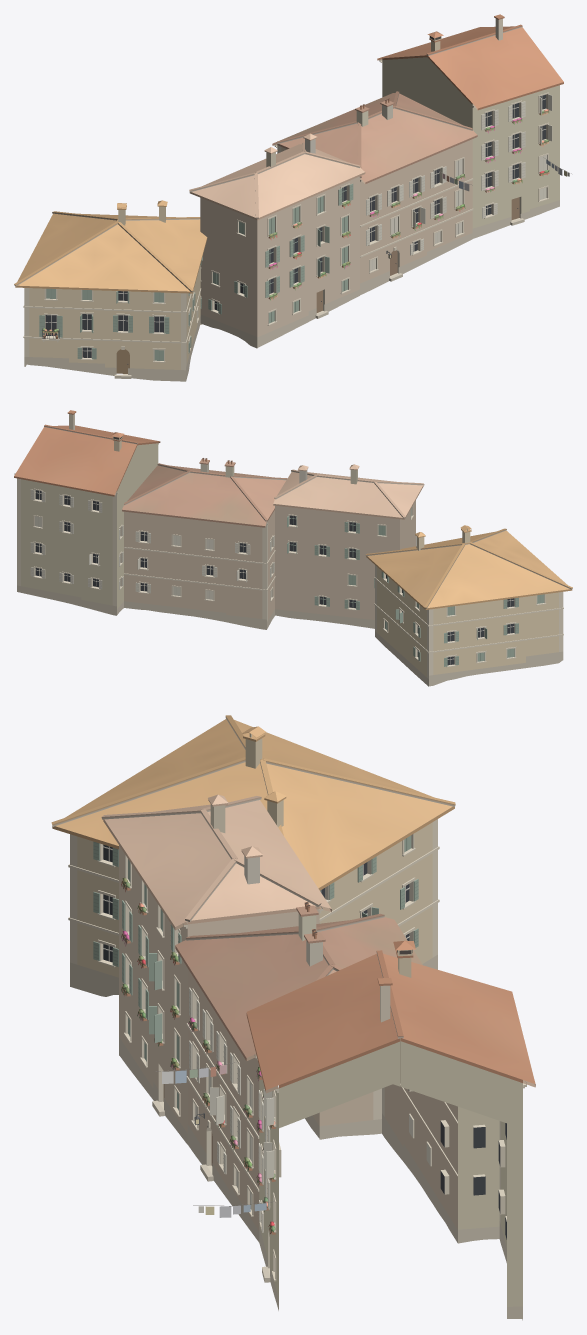
File: SM_BM_BT_blk_05.glb
3 views of the same model, one above another, from view 1: azimuth 30°, elevation 25°; view 2: azimuth 150°, elevation 25°; view 3: azimuth 270°, elevation 25° (orthographic). The views are drawn at different scales.
Visible parts, largest first — view 1: SM_BM_BT_blk_05; view 2: SM_BM_BT_blk_05; view 3: SM_BM_BT_blk_05.
Boxes of the visible parts, x1=… form: SM_BM_BT_blk_05: x1=14, y1=14, x2=571, y2=381; SM_BM_BT_blk_05: x1=14, y1=410, x2=572, y2=686; SM_BM_BT_blk_05: x1=51, y1=715, x2=535, y2=1320.
Bounding box in the file's own units: 61.74 × 21.16 × 26.54.
